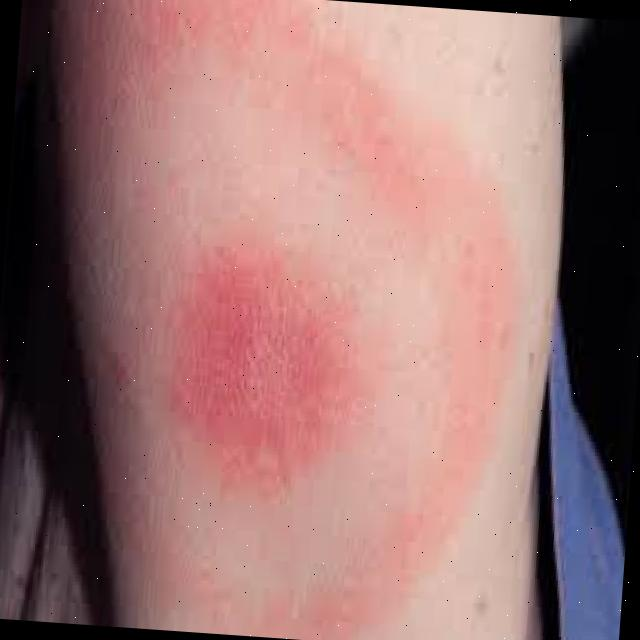kene: (156, 235, 377, 521)
